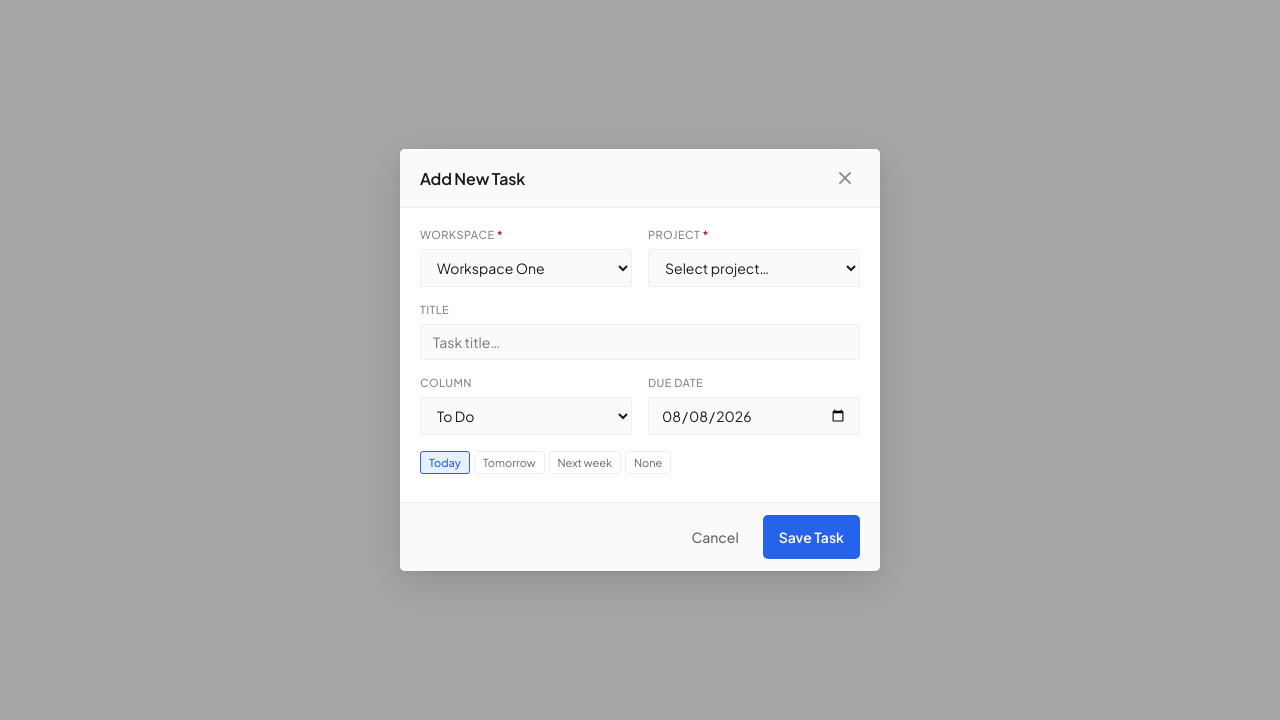
Test: DashboardAddTaskModal › requires workspace selection and displays error
Change workspace to empty
Select "Select workspace…" in the dropdown labelled "Workspace *" at coordinates (526, 268), box [420,249,632,287]
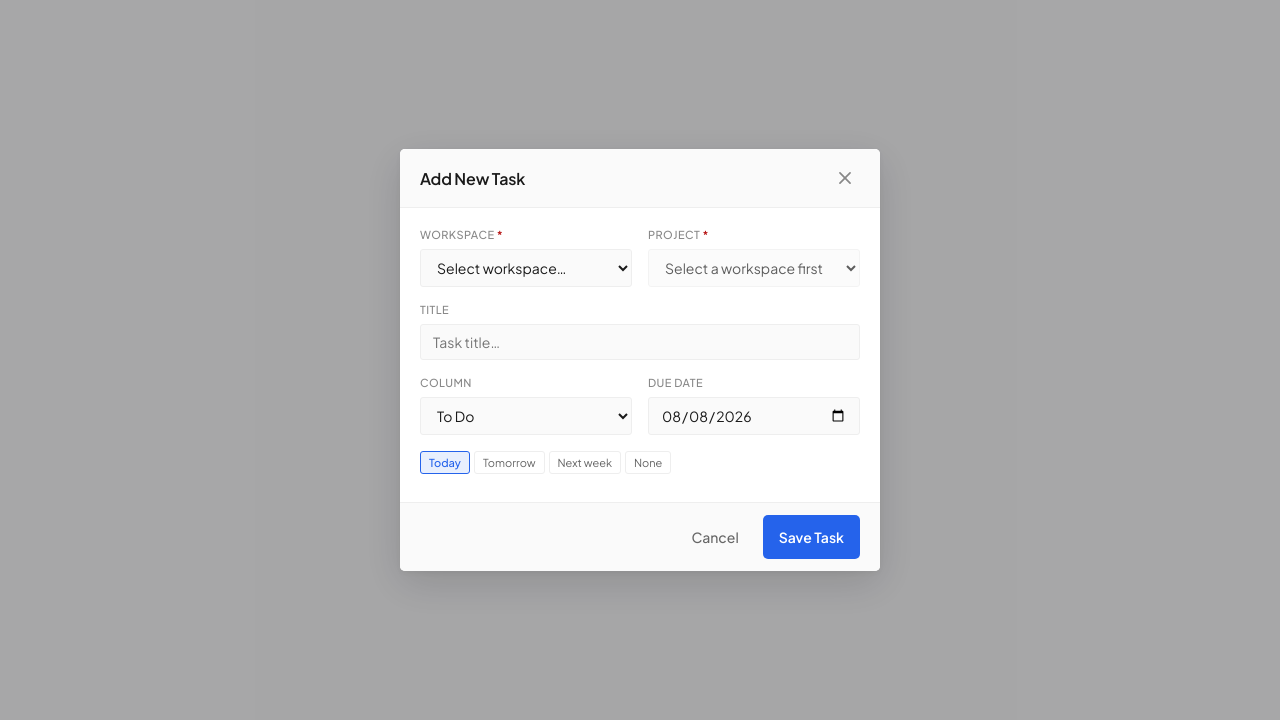
Submit form
Click the button "Save Task" at coordinates (811, 537), box [763,515,860,559]
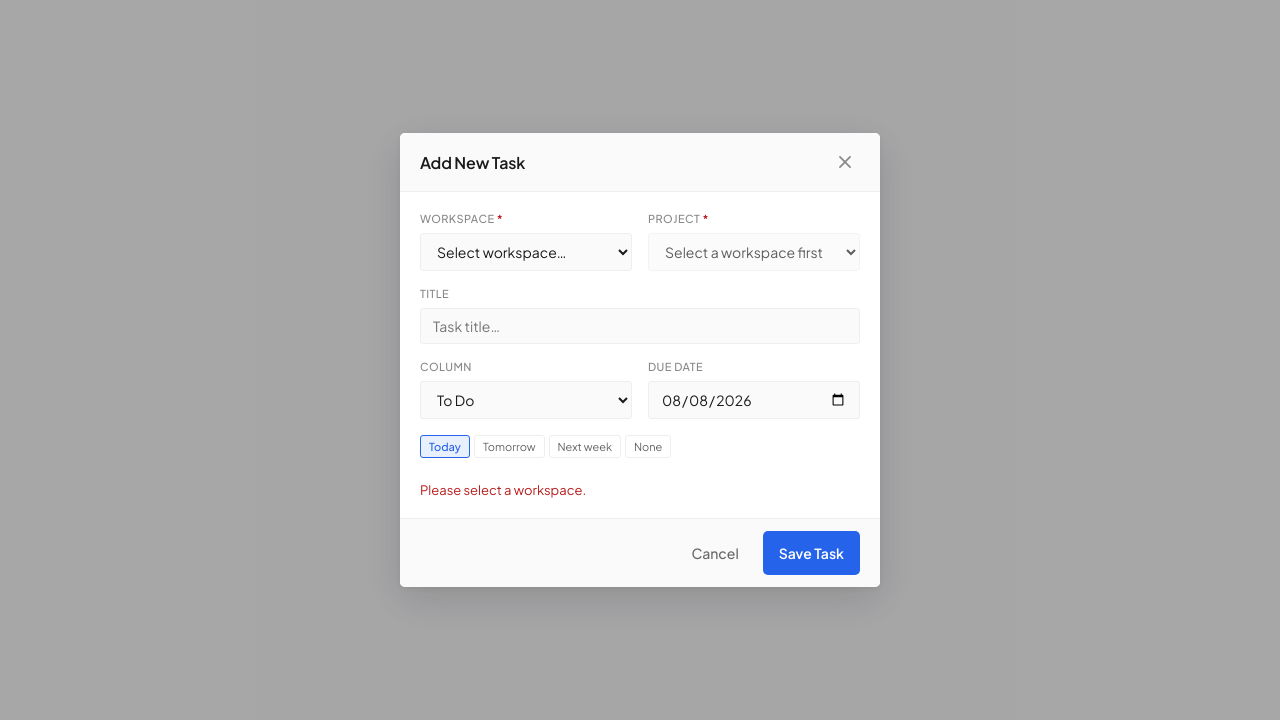
Expected: the text "Please select a workspace." is shown, [420,482,586,498]
